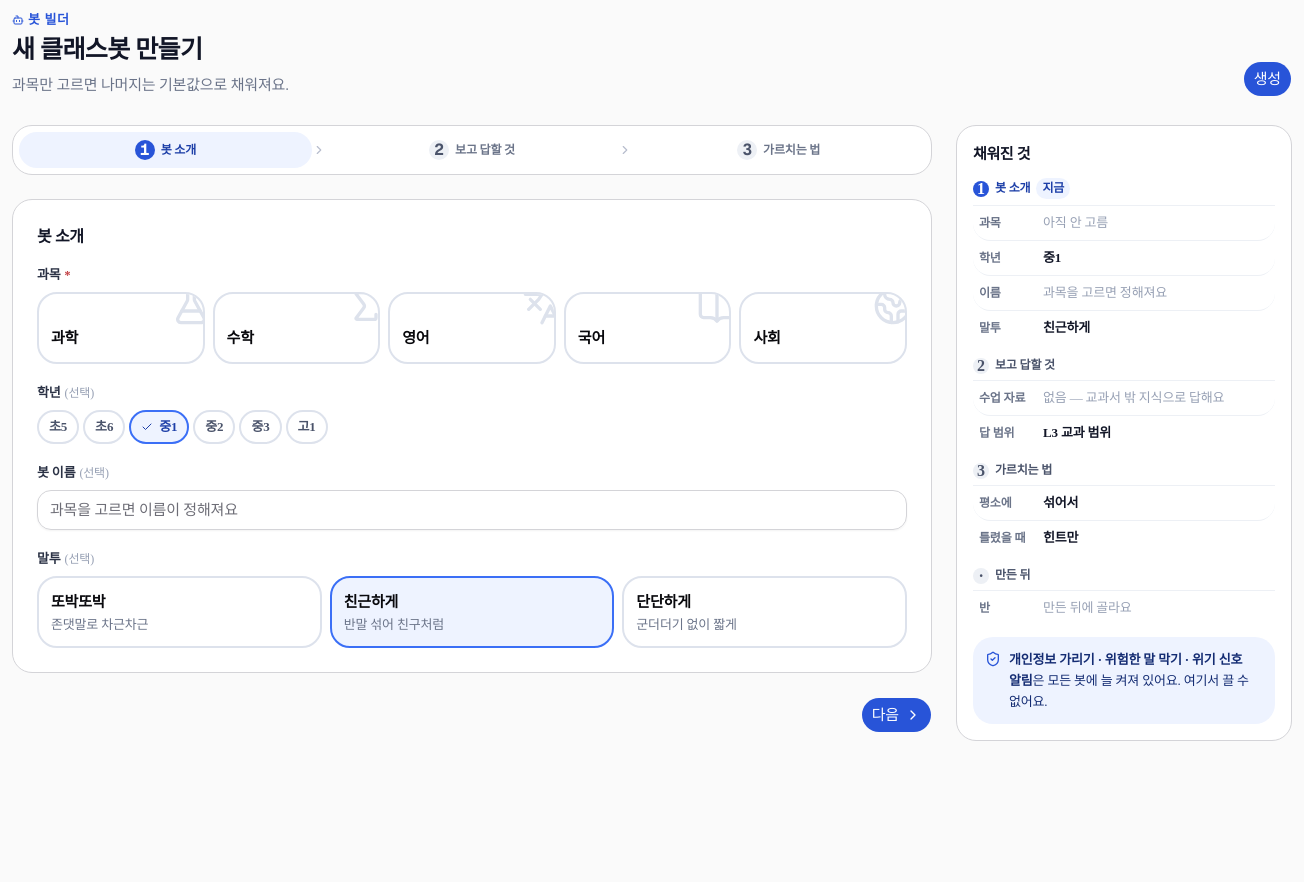
Test: 필수를 안 채우면 다음 마당으로 못 간다 › 되짚어 가는 「이전」은 막지 않는다
「단계」로 건너뛴 자리에서 되돌아온다 — 뒤로 가는 길에는 관문이 없다
Click the radio button labelled "과학". click: (121, 328)
box: [37,292,205,364]
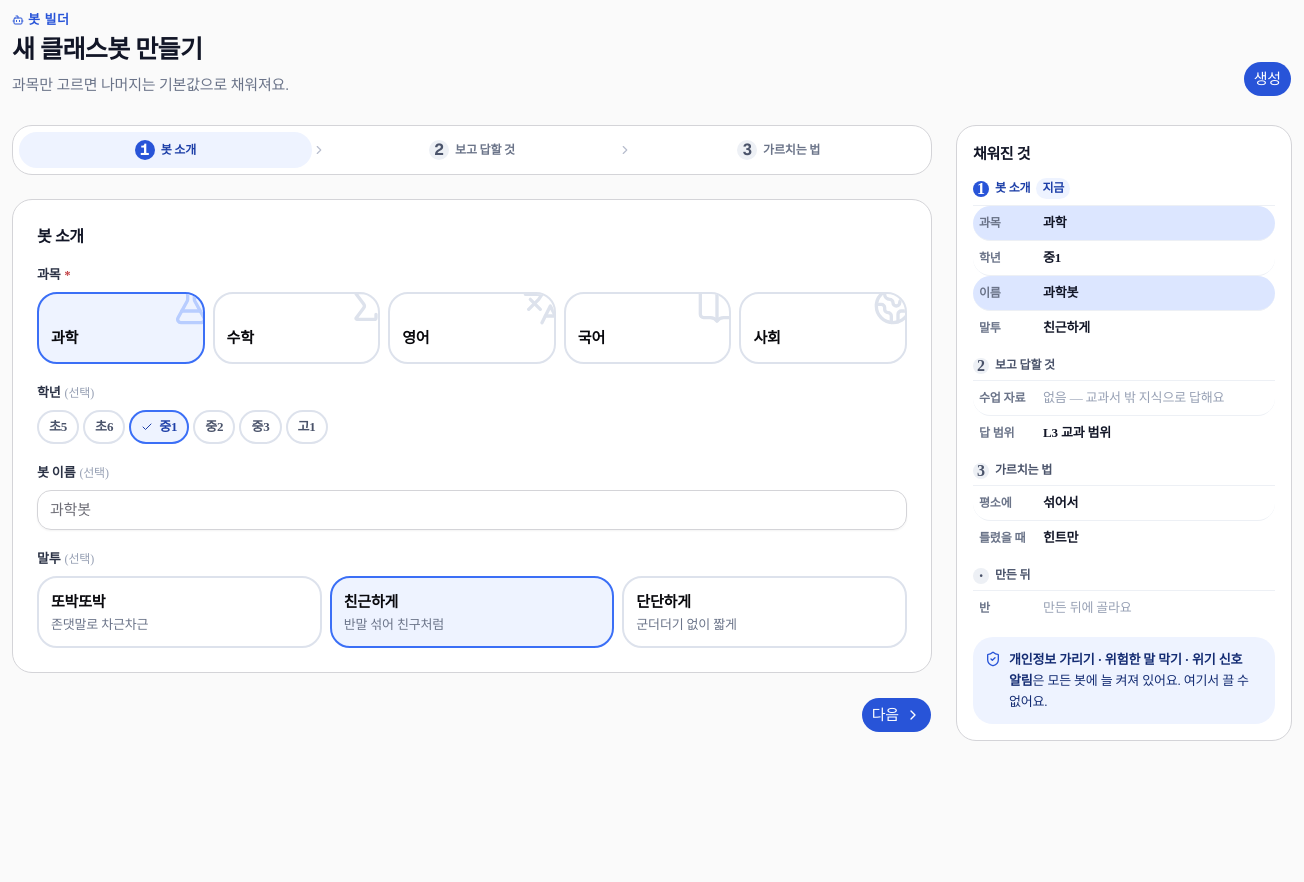
Click the button "2 보고 답할 것". click: (472, 150)
box: [326,132,618,168]
(page scrolled)
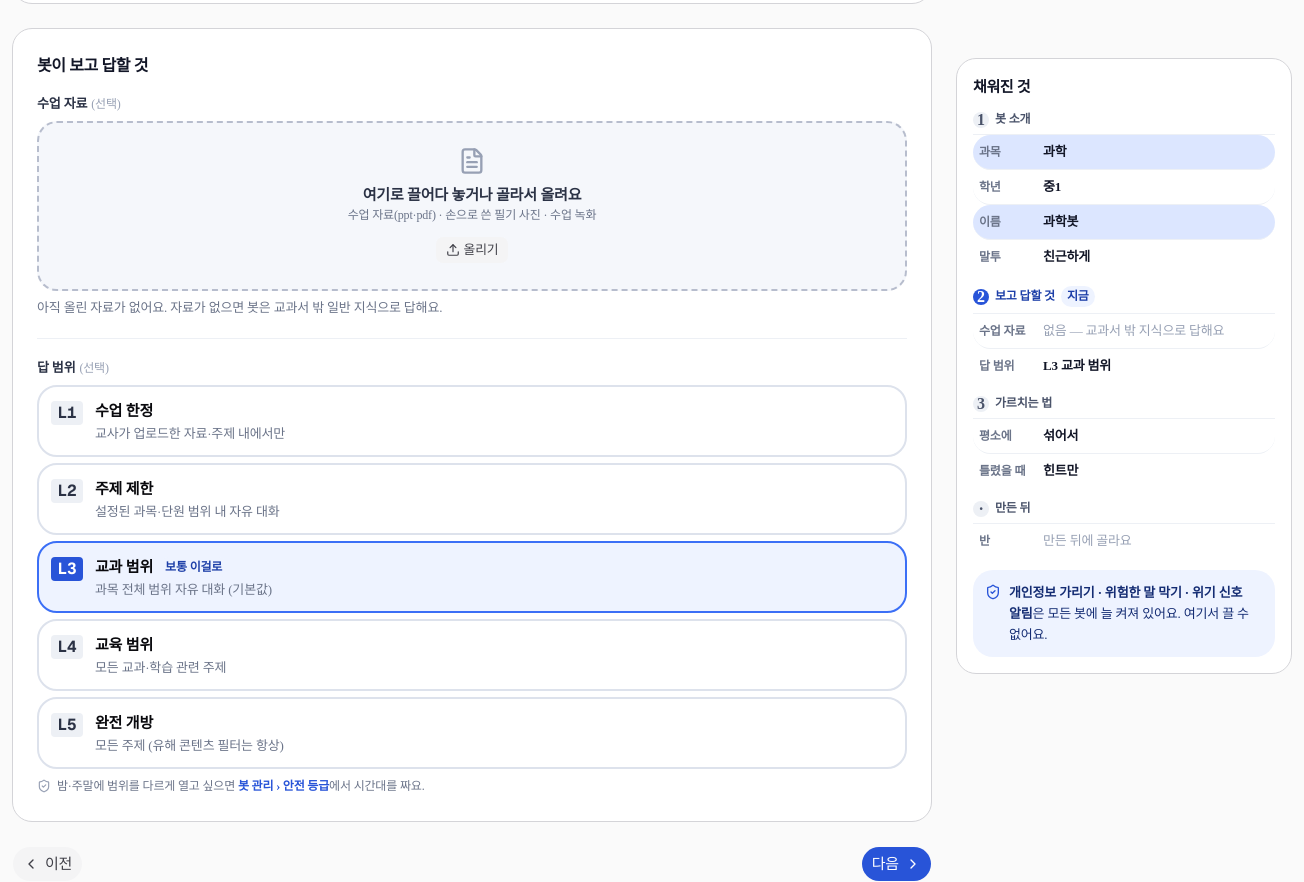
Click the button "이전". click: (48, 864)
box: [12,846,83,881]
(page scrolled)
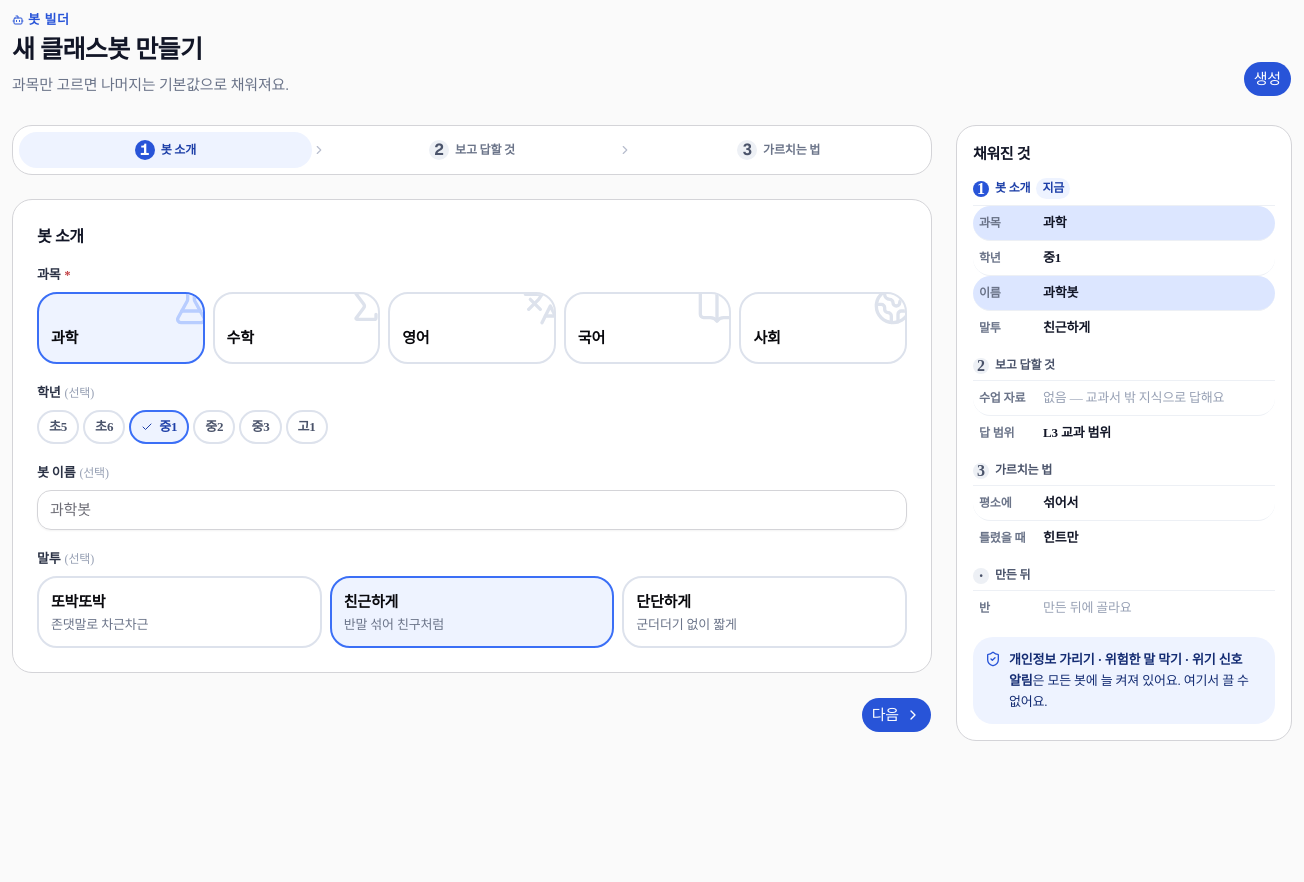
Expected: the heading "봇 소개" is shown, [37,228,84,245]
